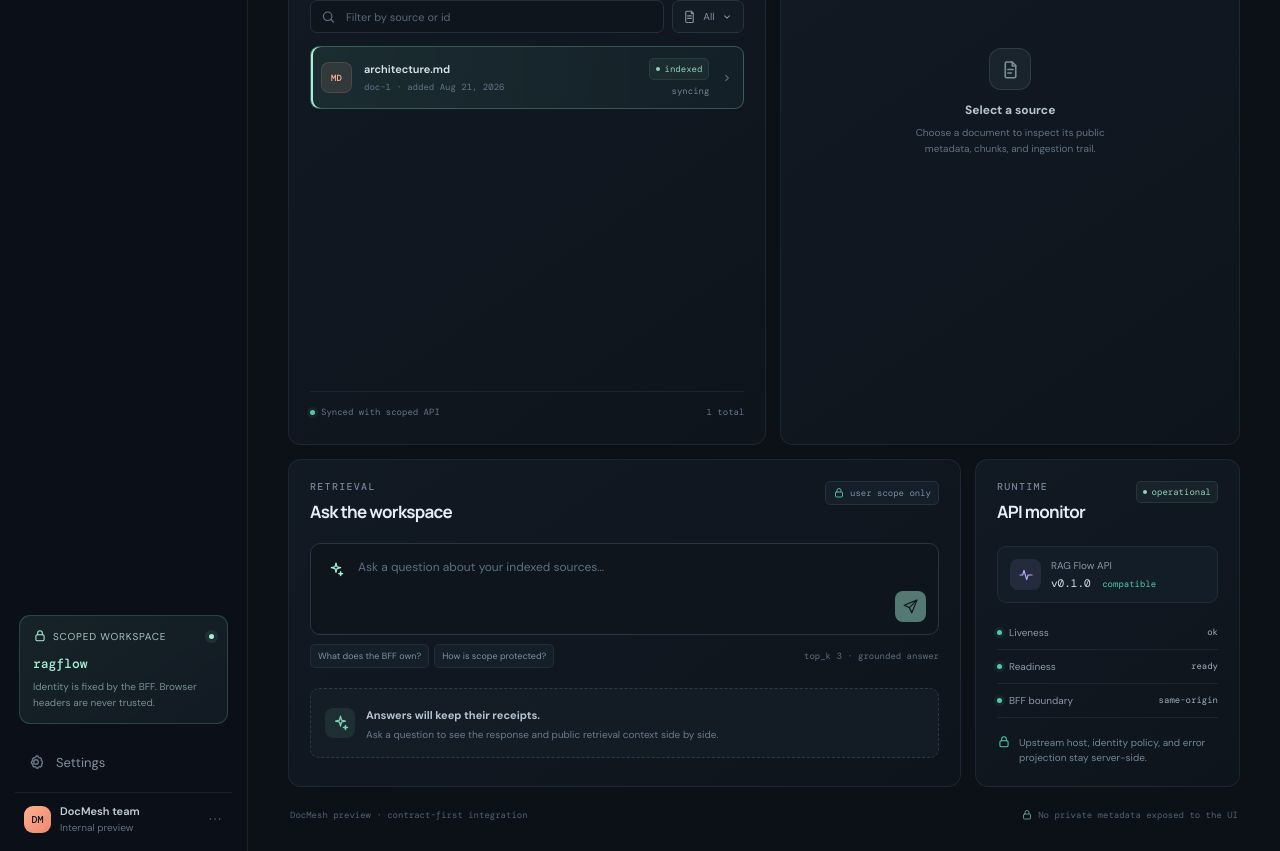
it: RAG Flow workspace › keeps the upstream hostname behind the BFF boundary
The image size is (1280, 851).
(page scrolled)
Expected: the text "architecture.md" is shown, [364,62,450,76]
Click the button "Settings" at (124, 762), box [15,742,232,782]
(page scrolled)
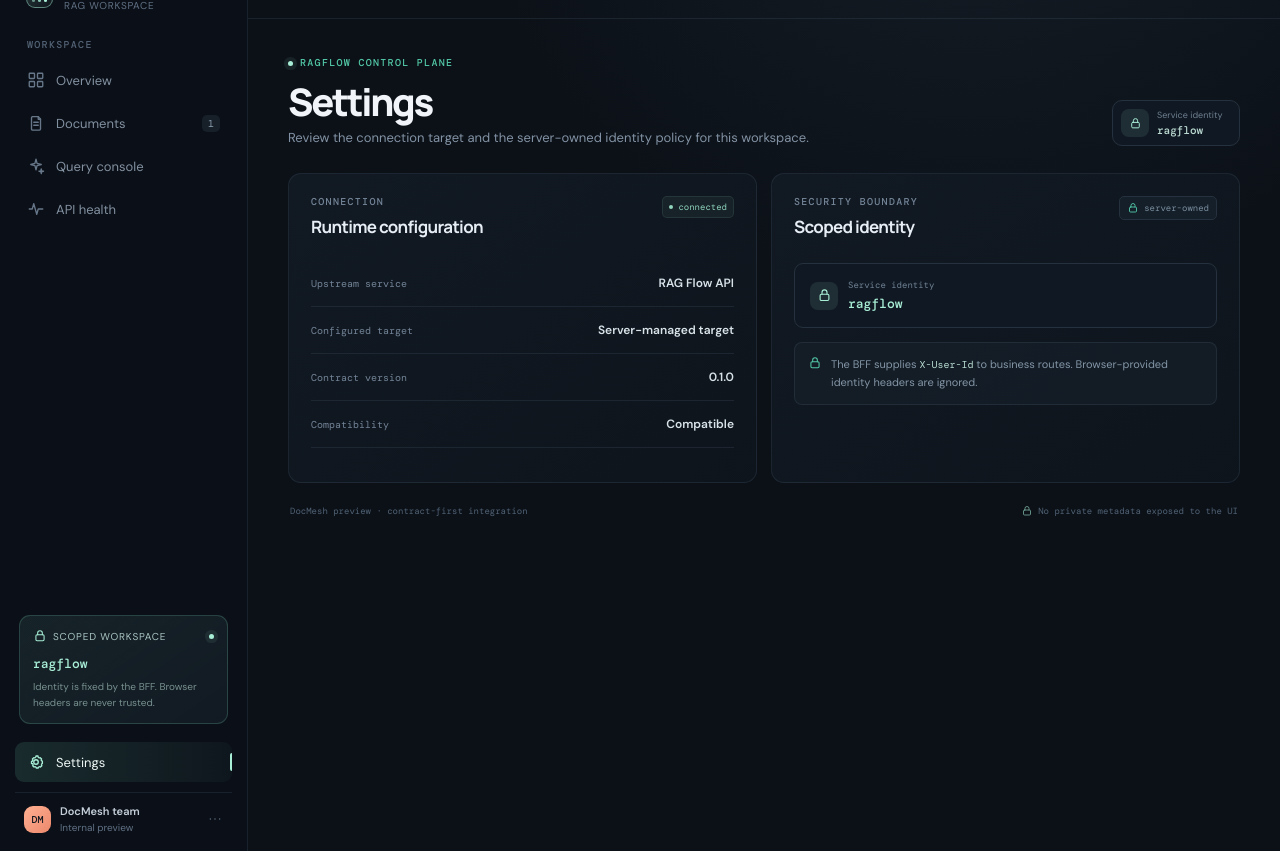
Expected: the text "Server-managed target" is shown, [598,322,734,338]
